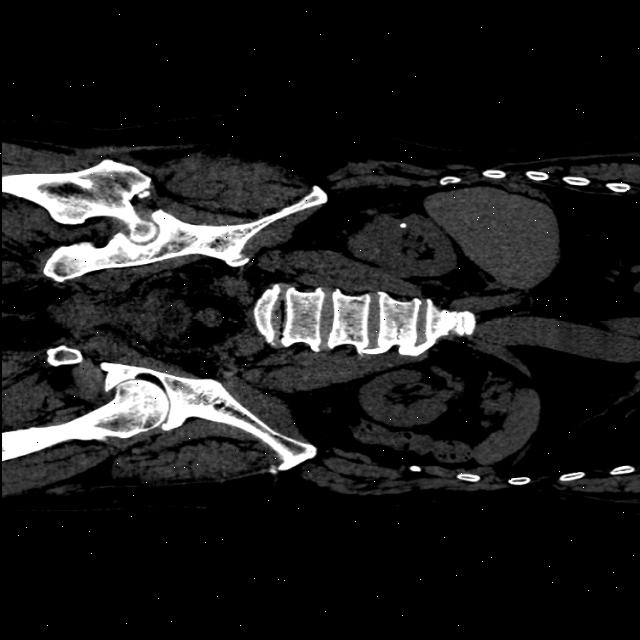kidneystone: (399, 222, 406, 229)
